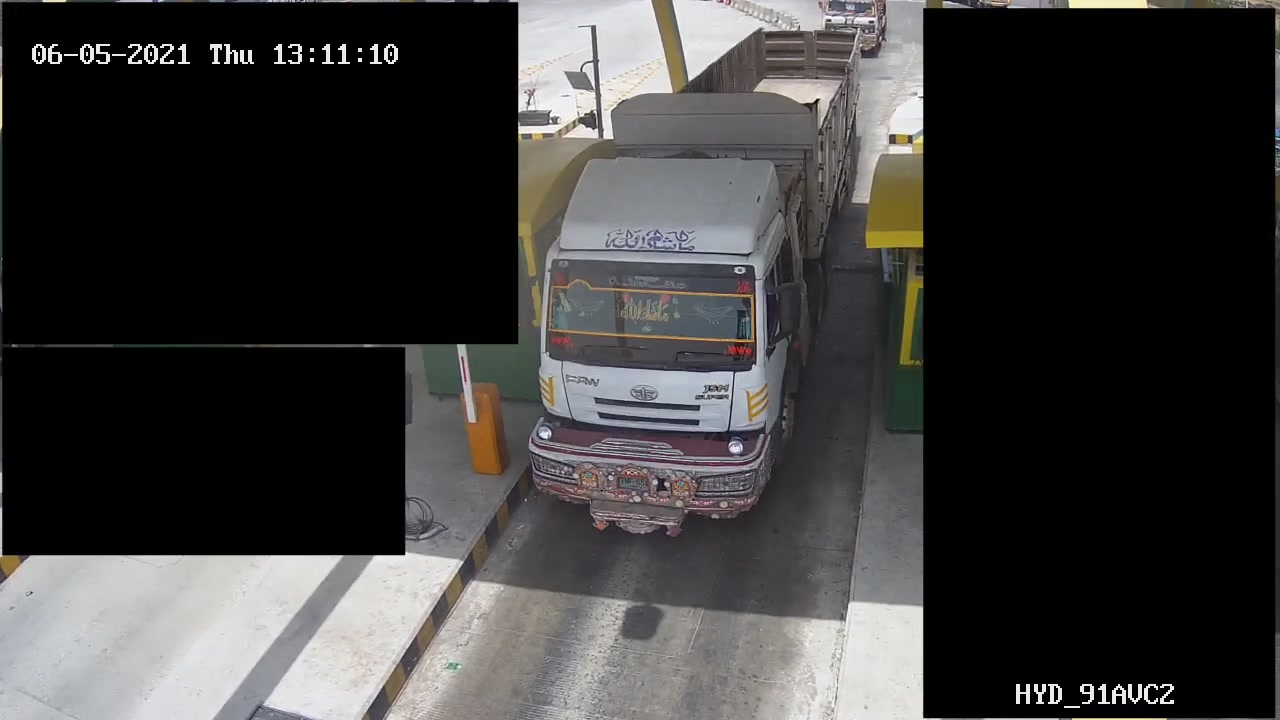F6: (520, 26, 873, 558)
